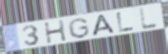3: (22, 24, 42, 47)
A: (91, 14, 117, 37)
G: (67, 17, 91, 39)
H: (43, 19, 68, 45)
L: (138, 6, 160, 30), (116, 11, 136, 33)
